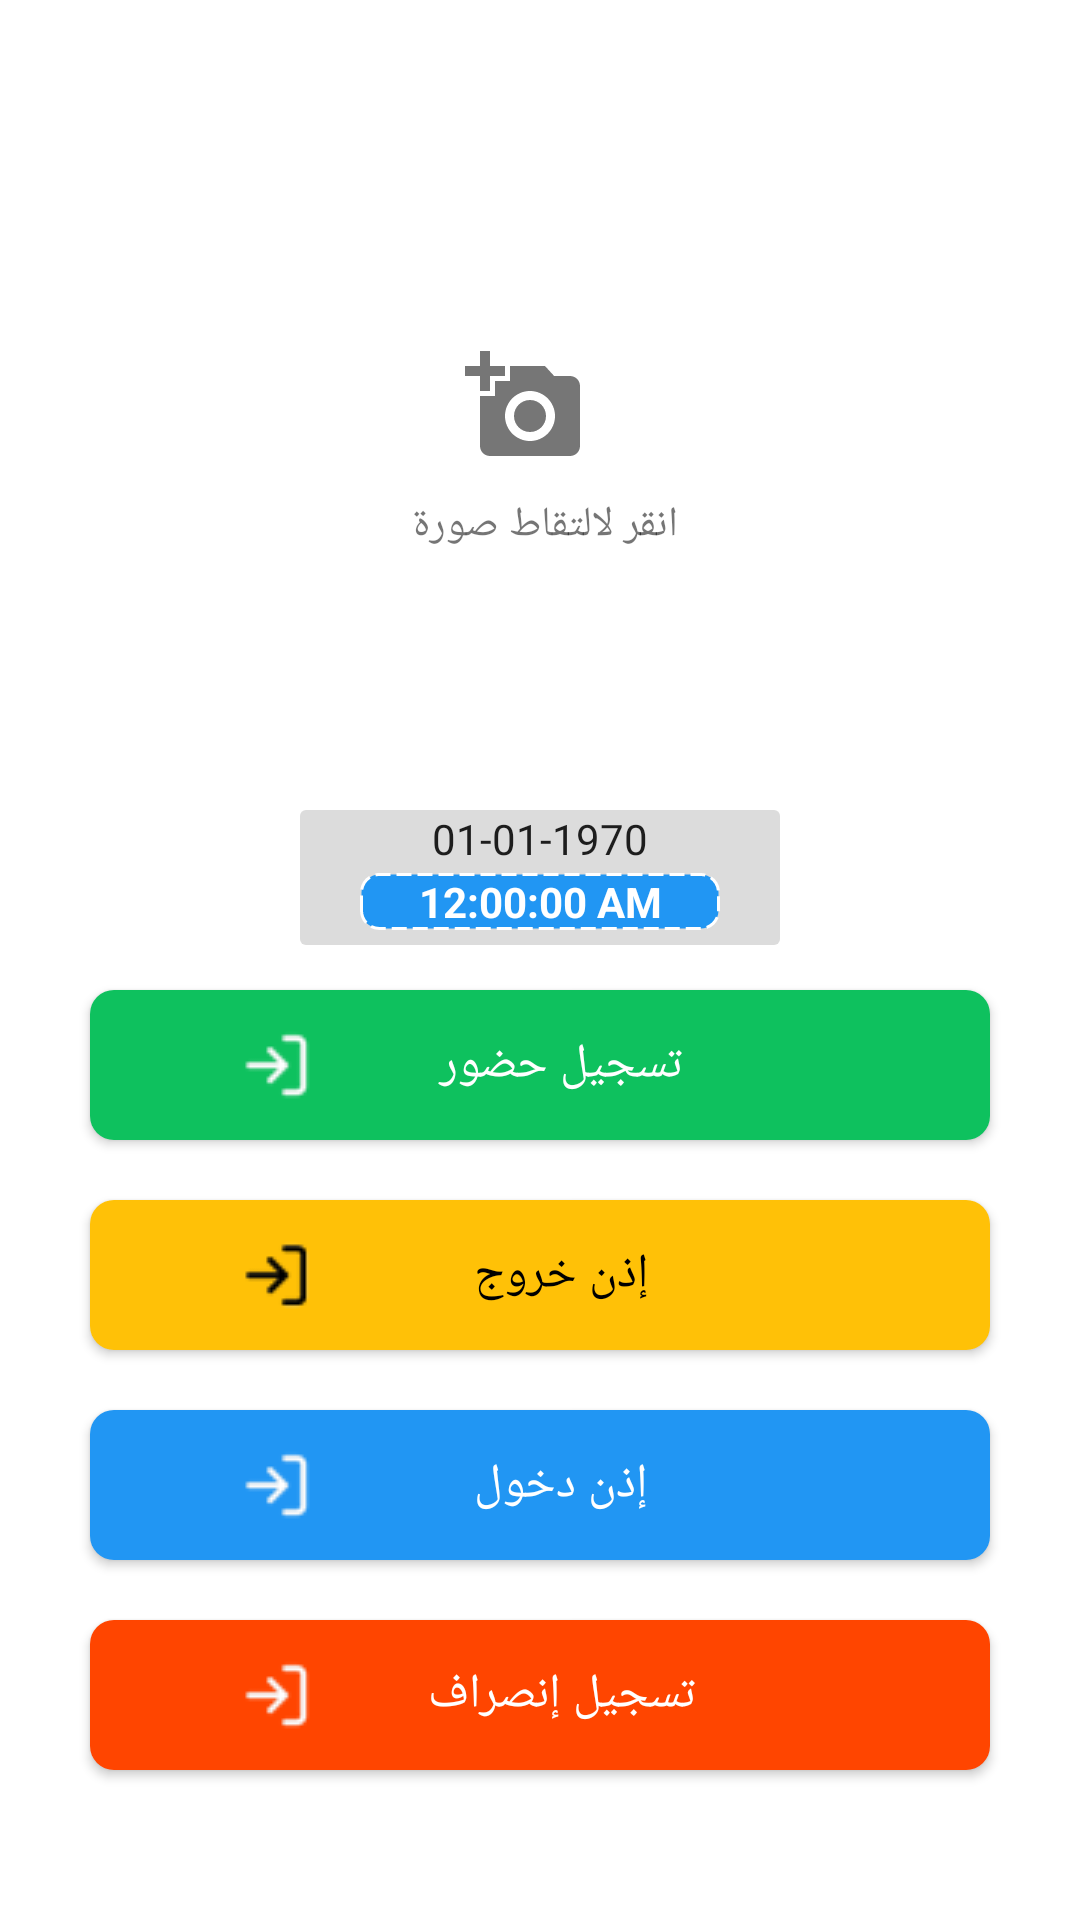

Locate icon controls on the screen. Image size 1080×1920, boxes as (x1=x1, y1=y1, x2=x2, y2=y2).
add photo: (x1=465, y1=351, x2=580, y2=456)
